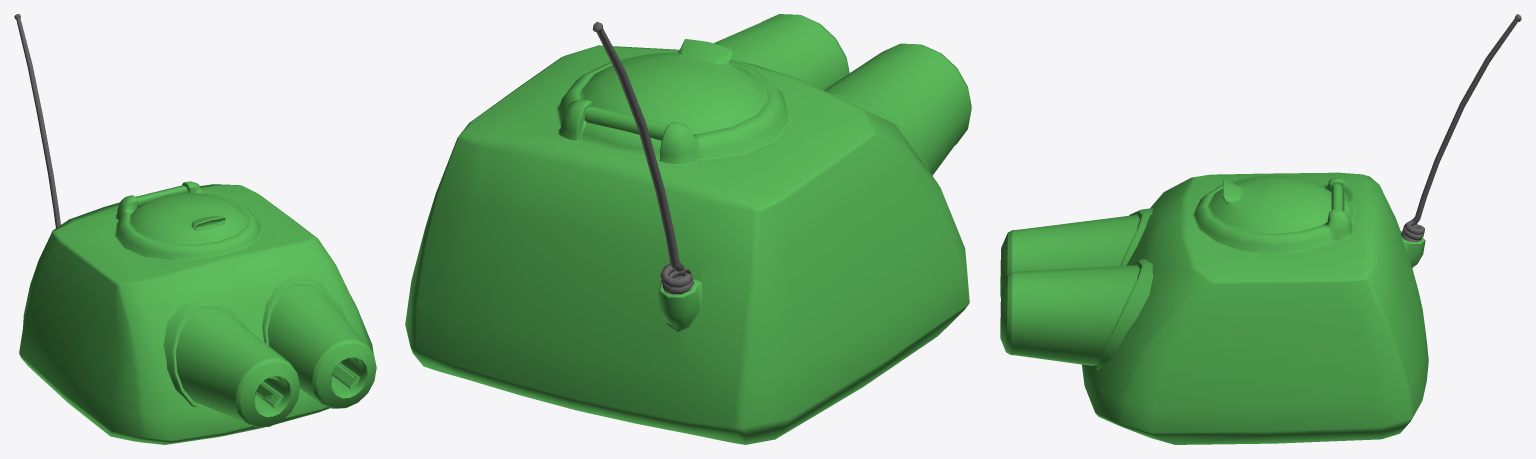
The model's file is barrelshottytest.fbx.
3 views of the same model, side by side, from view 1: azimuth 30°, elevation 25°; view 2: azimuth 150°, elevation 25°; view 3: azimuth 270°, elevation 25° (orthographic). The views are drawn at different scales.
Parts seen in each view (by area): view 1: barrelshotty; view 2: barrelshotty; view 3: barrelshotty.
Boxes of the visible parts, bbox=[...] form: barrelshotty: bbox=[14, 14, 376, 444]; barrelshotty: bbox=[405, 14, 971, 444]; barrelshotty: bbox=[1000, 14, 1521, 444].
Bounding box in the file's own units: 129 × 144 × 198.
